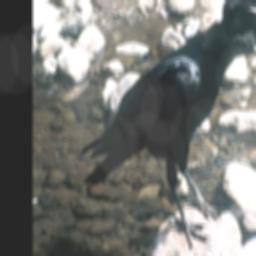Crow: (80, 0, 256, 249)
